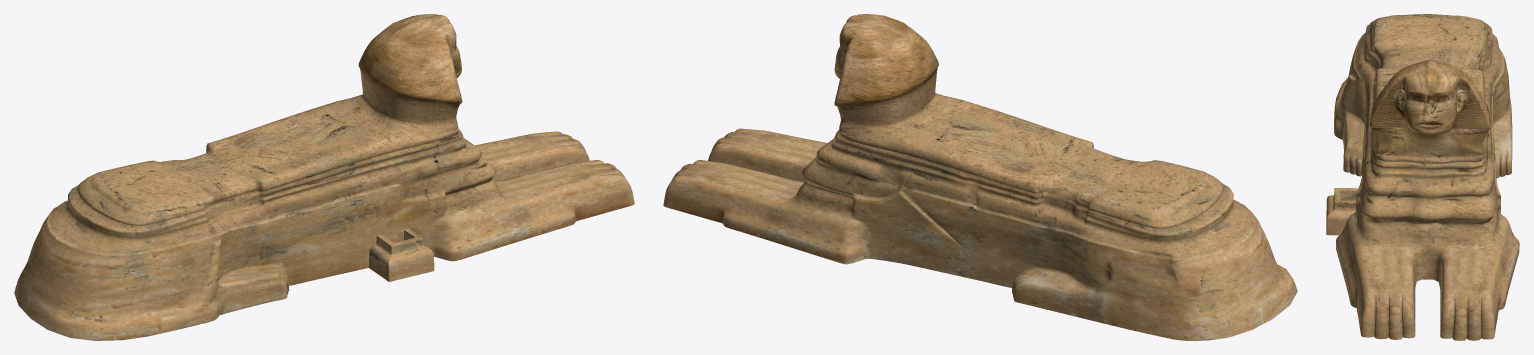
File: great_sphinx3.fbx
The picture shows the model from 3 angles, left to right: view 1: azimuth 30°, elevation 25°; view 2: azimuth 150°, elevation 25°; view 3: azimuth 270°, elevation 25°; orthographic projection. The views are drawn at different scales.
Parts seen in each view (by area): view 1: sphinx; view 2: sphinx; view 3: sphinx.
Part boxes in pixels (x1,y1,x2,y2): sphinx: [14, 14, 634, 340]; sphinx: [663, 14, 1297, 340]; sphinx: [1326, 14, 1519, 340].
Bounding box in the file's own units: 15757 × 5303 × 4840.
1 material, 1 textured.
